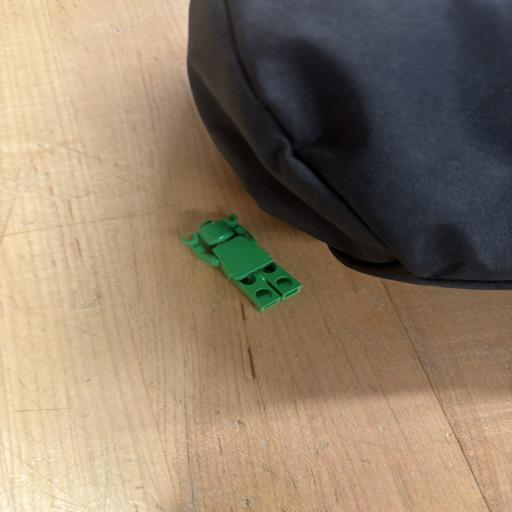green_lego_minifigure: (147, 188, 337, 328)
